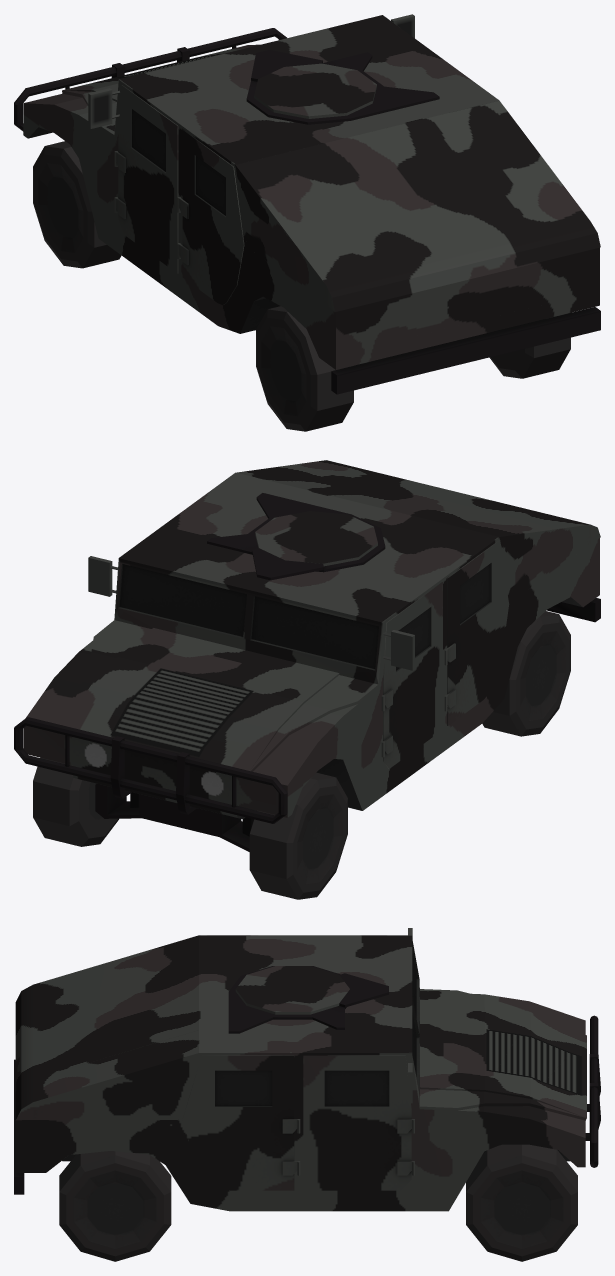
Rendered from HMMWV.fbx.
The picture shows the model from 3 angles, top to bottom: view 1: azimuth 30°, elevation 25°; view 2: azimuth 150°, elevation 25°; view 3: azimuth 270°, elevation 25°; orthographic projection. The views are drawn at different scales.
Visible parts, largest first — view 1: Body, Trunk_Upper, Trunk_Left, Door_Front_Left, Trunk_Right, Door_Rear_Left, Wheel_Back_Left, Trunk_Lower, Wheel_Front_Left, Turret_Ring, Bumper, Turret_Cover_Left (+3 smaller); view 2: Body, Wheel_Front_Left, Door_Rear_Left, Door_Front_Left, Bumper, Wheel_Back_Left, Trunk_Left, Trunk_Upper, Wheel_Front_Right, Axle_Front, Turret_Ring, Turret_Cover_Left (+4 smaller); view 3: Body, Door_Front_Right, Door_Rear_Right, Trunk_Upper, Wheel_Front_Right, Trunk_Right, Wheel_Back_Right, Trunk_Left, Turret_Ring, Turret_Cover_right, Turret_Cover_Left, Bumper.
Boxes of the visible parts, x1,y1,x2,y2 form: Body: [23, 15, 600, 394]; Trunk_Upper: [287, 113, 548, 299]; Trunk_Left: [235, 152, 386, 311]; Door_Front_Left: [114, 85, 178, 273]; Trunk_Right: [448, 101, 600, 259]; Door_Rear_Left: [177, 129, 244, 304]; Wheel_Back_Left: [256, 306, 353, 431]; Trunk_Lower: [387, 260, 548, 342]; Wheel_Front_Left: [33, 141, 121, 268]; Turret_Ring: [246, 50, 439, 124]; Bumper: [14, 28, 286, 131]; Turret_Cover_Left: [254, 67, 346, 118]; Body: [23, 472, 600, 819]; Wheel_Front_Left: [249, 772, 347, 899]; Door_Rear_Left: [444, 541, 509, 725]; Door_Front_Left: [381, 582, 442, 768]; Bumper: [14, 717, 287, 823]; Wheel_Back_Left: [482, 611, 570, 736]; Trunk_Left: [449, 512, 600, 601]; Trunk_Upper: [287, 472, 538, 524]; Wheel_Front_Right: [33, 757, 118, 846]; Axle_Front: [95, 783, 256, 851]; Turret_Ring: [207, 493, 385, 580]; Turret_Cover_Left: [285, 514, 377, 566]; Body: [14, 935, 586, 1211]; Door_Front_Right: [303, 1055, 414, 1190]; Door_Rear_Right: [182, 1055, 300, 1190]; Trunk_Upper: [15, 958, 198, 1096]; Wheel_Front_Right: [466, 1144, 577, 1261]; Trunk_Right: [15, 1030, 198, 1120]; Wheel_Back_Right: [59, 1151, 171, 1261]; Trunk_Left: [15, 935, 198, 1024]; Turret_Ring: [228, 966, 388, 1033]; Turret_Cover_right: [235, 989, 349, 1014]; Turret_Cover_Left: [236, 966, 349, 988]; Bumper: [585, 1015, 600, 1167].
Size of the model in its own units: 9.74 by 6.8 by 16.74.
